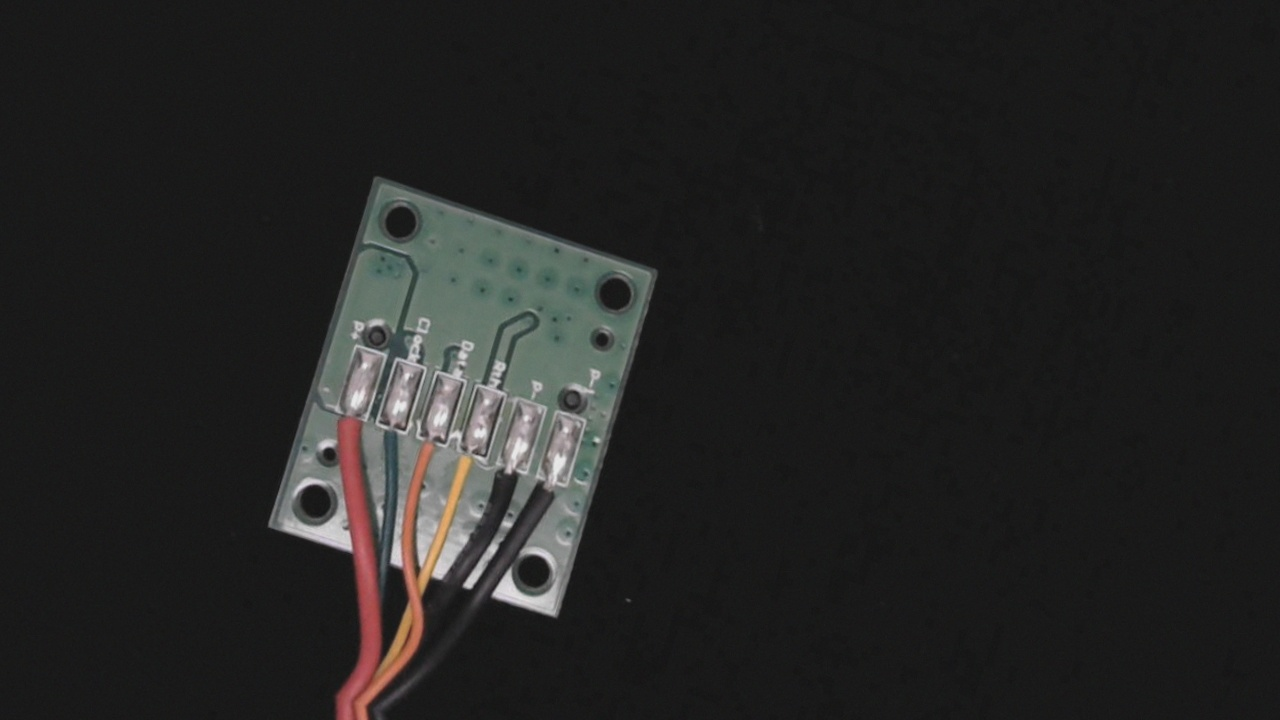Black: (481, 445, 535, 520)
Black1: (520, 456, 578, 539)
Green: (363, 407, 411, 478)
Orange: (400, 418, 453, 495)
Red: (316, 391, 376, 478)
Yellow: (434, 430, 496, 522)
